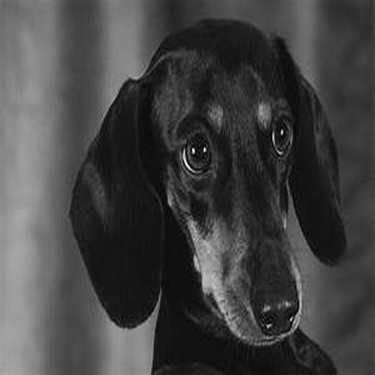dog: (51, 6, 353, 372)
